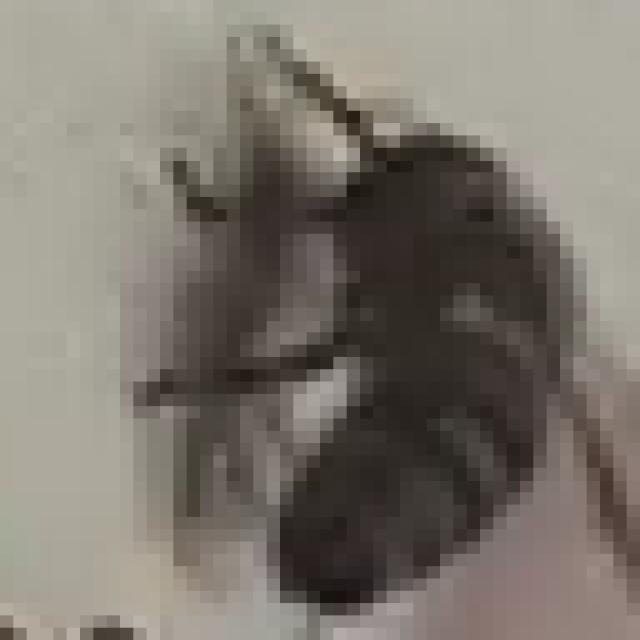honeybee: (147, 60, 588, 624)
